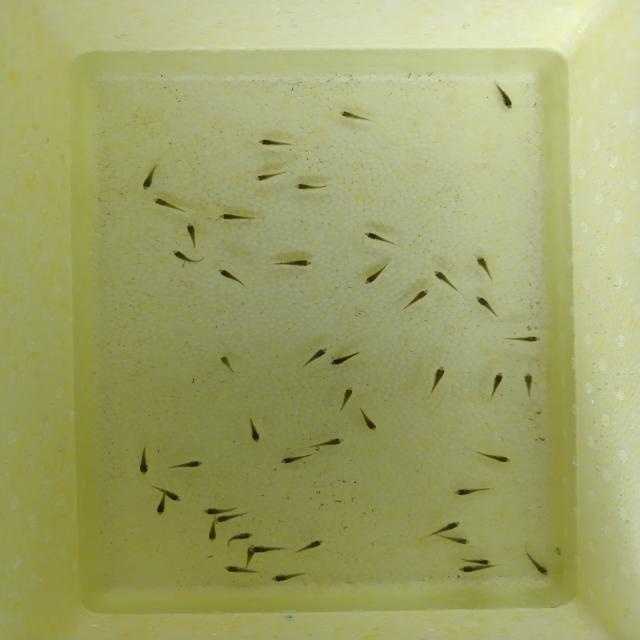fingerling: (492, 82, 523, 115), (332, 105, 378, 124), (324, 349, 364, 369), (423, 363, 449, 393), (298, 343, 329, 367), (474, 294, 501, 320), (356, 268, 391, 287), (248, 169, 293, 183), (399, 286, 438, 302), (171, 457, 207, 474), (256, 135, 296, 150), (272, 256, 318, 269), (427, 520, 464, 536), (486, 367, 505, 397), (245, 419, 266, 446), (473, 253, 492, 282), (272, 453, 314, 466), (150, 196, 184, 212), (292, 538, 328, 553), (311, 436, 352, 449), (156, 485, 187, 502), (217, 266, 245, 284), (478, 452, 520, 464), (357, 231, 395, 244), (524, 559, 552, 576), (288, 180, 331, 191), (219, 352, 236, 378), (151, 496, 172, 517), (171, 249, 196, 266), (452, 485, 487, 497), (432, 268, 451, 290), (136, 452, 152, 478), (363, 410, 378, 436), (221, 564, 251, 577), (142, 167, 156, 194), (218, 212, 255, 222), (270, 572, 305, 582), (457, 563, 488, 574), (183, 221, 200, 241), (340, 384, 354, 407), (524, 369, 535, 398), (459, 557, 492, 566), (214, 513, 243, 523), (201, 507, 233, 516), (504, 335, 543, 342), (442, 536, 475, 544), (205, 522, 218, 541), (230, 531, 252, 542), (252, 546, 288, 552), (247, 546, 252, 566)
